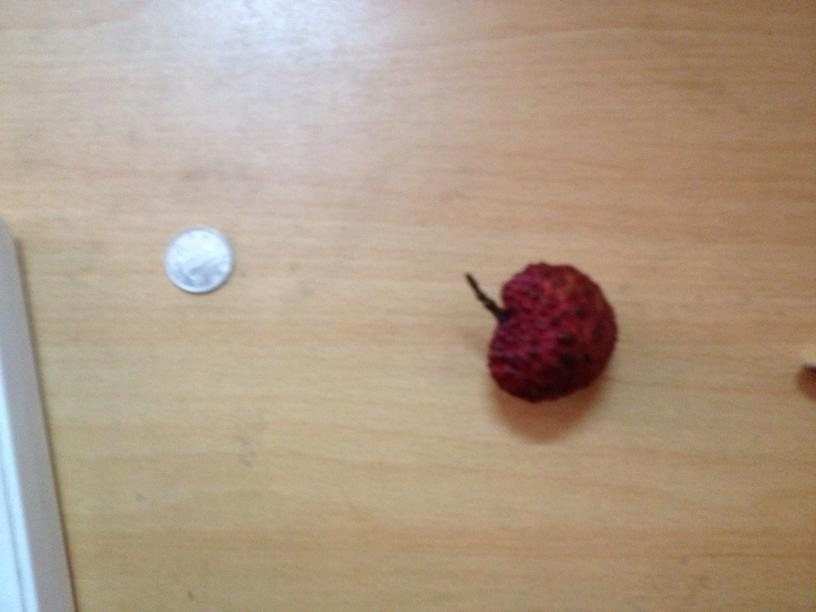coin: (166, 225, 234, 294)
litchi: (484, 256, 615, 402)
